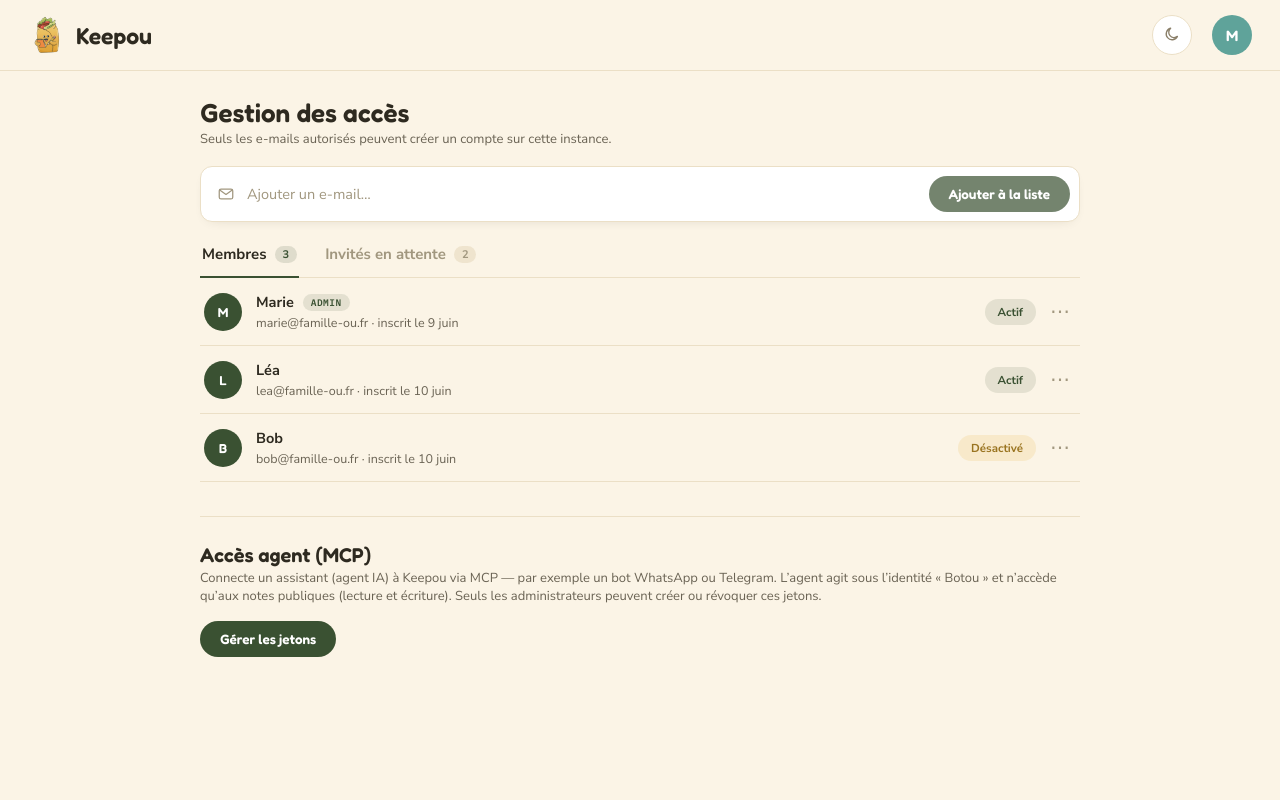
it: AdminPage / AccessManager › surfaces the last-admin guard: demote/disable disabled for the only active admin
The image size is (1280, 800).
What coordinates should you click on to do the following:
click the button named "Actions pour Marie"
I would click on:
 (1060, 312)
Its box is [1044, 294, 1076, 330].
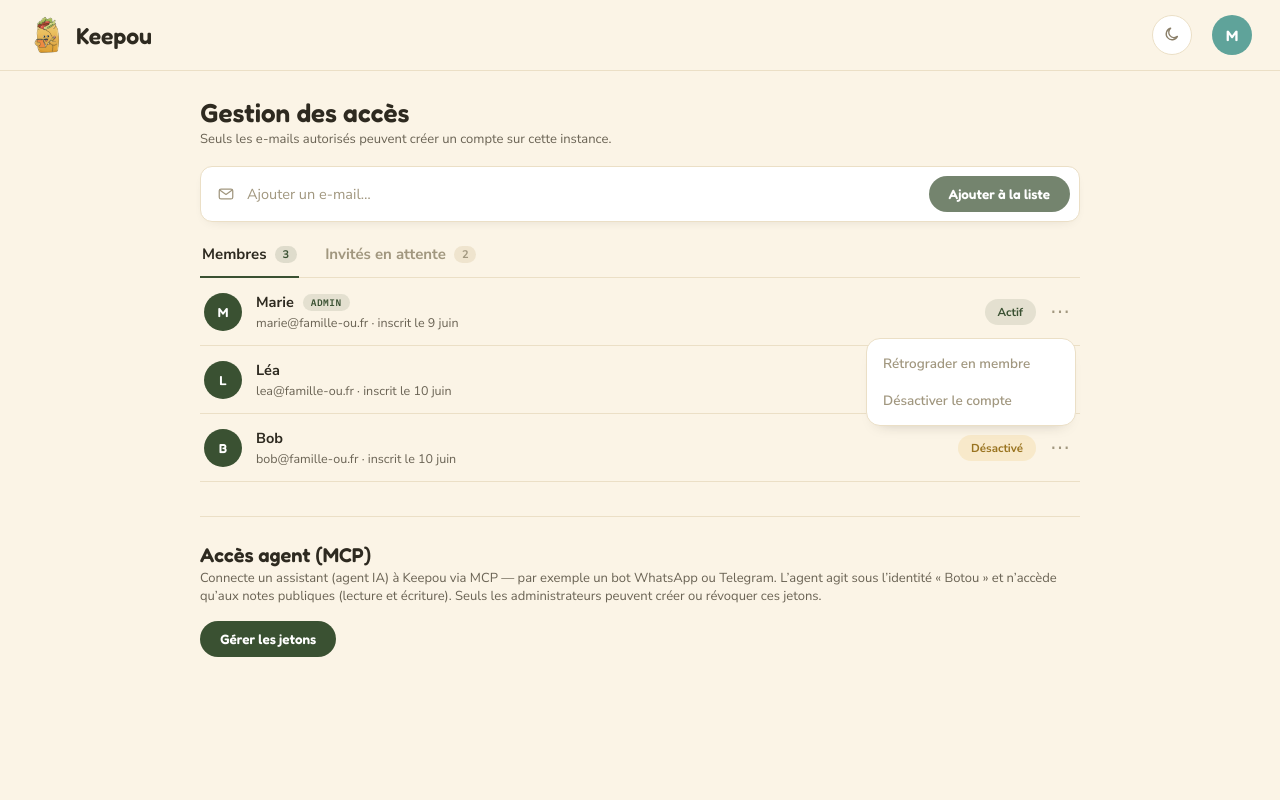
Now the menu item "Rétrograder en membre" is disabled, box [873, 344, 1069, 382]
Now the menu item "Désactiver le compte" is disabled, box [873, 382, 1069, 418]
